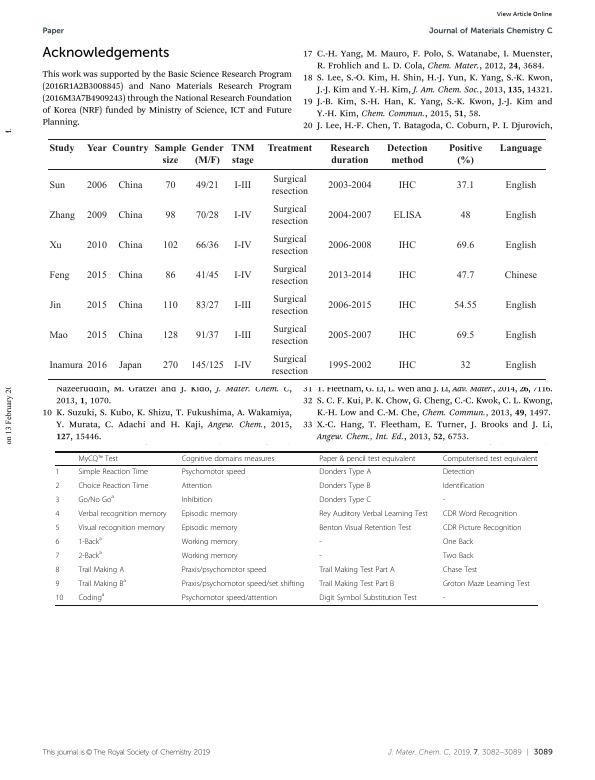borderless: (47, 138, 546, 379), (55, 450, 538, 605)
cell: (181, 579, 305, 589), (318, 509, 429, 519), (318, 593, 418, 603), (181, 593, 278, 603), (386, 144, 428, 167), (329, 144, 370, 167), (318, 523, 412, 533), (270, 204, 309, 228), (77, 509, 167, 519), (270, 175, 309, 198), (270, 234, 309, 257), (270, 264, 309, 287), (270, 294, 309, 317), (270, 324, 309, 347), (270, 354, 309, 377), (77, 523, 166, 533), (442, 579, 531, 589), (318, 454, 416, 463), (442, 454, 538, 463), (181, 565, 267, 575), (181, 454, 275, 463), (442, 523, 523, 533), (448, 144, 483, 167), (153, 144, 187, 167), (190, 144, 224, 167), (318, 565, 396, 575), (318, 579, 395, 589), (442, 509, 518, 519), (77, 467, 149, 477), (77, 481, 149, 491), (181, 467, 246, 477), (77, 577, 127, 589), (181, 537, 239, 547), (181, 551, 239, 561), (230, 144, 255, 167), (181, 509, 238, 519), (181, 523, 238, 533), (327, 210, 372, 222), (318, 467, 372, 477), (318, 495, 372, 505), (318, 481, 371, 491), (266, 144, 313, 155), (498, 144, 543, 155), (327, 181, 372, 192), (327, 240, 372, 251), (327, 270, 372, 281), (327, 300, 372, 311), (327, 330, 372, 341), (327, 360, 372, 371), (77, 565, 125, 575), (77, 493, 115, 505), (442, 481, 485, 491), (111, 144, 149, 155), (504, 210, 537, 222), (503, 270, 538, 281), (48, 360, 83, 371), (77, 454, 119, 463), (190, 360, 224, 371), (504, 181, 537, 192), (504, 240, 537, 251), (504, 300, 537, 311), (504, 330, 537, 341), (504, 360, 537, 371), (392, 210, 422, 222), (442, 565, 478, 575), (48, 210, 76, 222), (77, 591, 105, 603), (442, 467, 475, 477), (181, 481, 213, 491), (181, 495, 213, 505), (442, 537, 474, 547), (442, 551, 474, 561), (117, 210, 143, 222), (77, 535, 103, 547), (77, 549, 103, 561), (48, 144, 75, 155), (195, 210, 219, 222), (117, 181, 143, 192), (117, 240, 143, 251), (117, 270, 143, 281), (117, 300, 143, 311), (117, 330, 143, 341), (195, 181, 219, 192), (86, 210, 108, 222), (195, 240, 219, 251), (195, 270, 219, 281), (195, 300, 219, 311), (453, 300, 477, 311), (195, 330, 219, 341), (118, 360, 142, 371), (86, 144, 108, 155), (85, 181, 107, 192), (85, 240, 107, 251), (48, 270, 70, 281), (86, 270, 108, 281), (86, 300, 108, 311), (86, 330, 108, 341), (86, 360, 108, 371), (233, 210, 252, 222), (397, 181, 417, 192), (455, 181, 475, 192), (397, 240, 417, 251), (455, 240, 475, 251), (397, 270, 417, 281), (455, 270, 475, 281), (397, 300, 417, 311), (48, 330, 68, 341), (397, 330, 417, 341), (455, 330, 475, 341), (397, 360, 417, 371), (233, 181, 252, 192), (233, 240, 252, 251), (233, 270, 252, 281), (233, 300, 252, 311), (233, 330, 252, 341), (233, 360, 252, 371), (48, 181, 66, 192), (162, 240, 179, 251), (162, 330, 179, 341), (162, 360, 179, 371), (162, 300, 178, 311), (48, 240, 62, 251), (48, 300, 62, 311), (164, 210, 176, 222), (459, 210, 471, 222), (164, 181, 176, 192), (164, 270, 176, 281), (459, 360, 471, 371), (55, 593, 64, 603), (54, 467, 60, 477), (54, 481, 60, 491), (54, 495, 60, 505), (55, 509, 60, 519), (55, 523, 60, 533), (55, 537, 60, 547), (318, 537, 323, 547), (55, 551, 60, 561), (318, 551, 323, 561), (55, 565, 60, 575), (55, 579, 60, 589), (442, 495, 446, 505), (442, 593, 446, 603)
